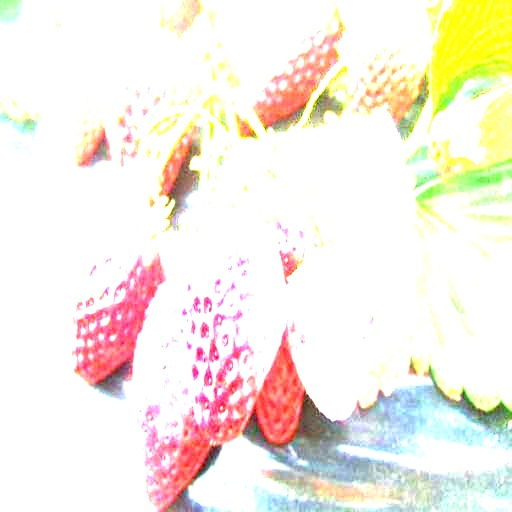Powdery Mildew Fruit: (177, 205, 289, 447), (284, 246, 381, 423)
